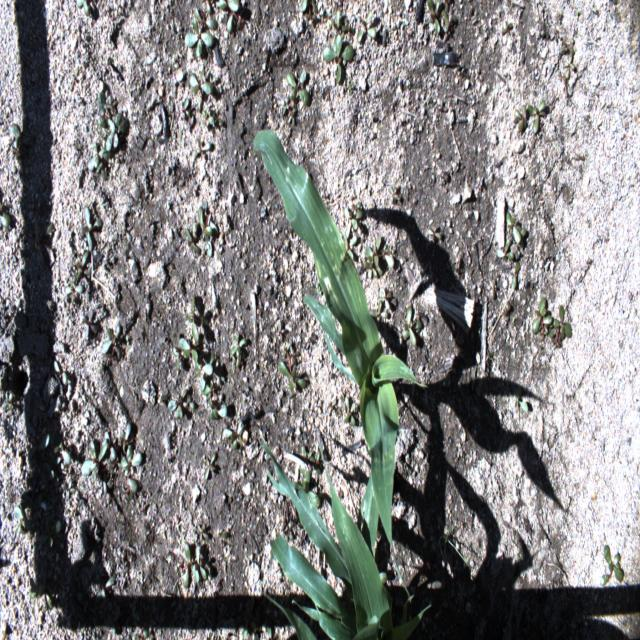crop: (251, 129, 427, 606), (258, 429, 434, 638), (260, 590, 317, 640)
weed: (323, 34, 355, 86), (439, 525, 471, 569), (197, 204, 220, 258), (81, 440, 108, 483), (29, 569, 58, 609), (185, 16, 213, 56), (364, 234, 395, 269), (120, 444, 142, 492), (201, 380, 226, 421), (277, 360, 307, 393), (550, 304, 572, 347), (82, 206, 102, 252), (600, 544, 622, 585), (104, 114, 129, 150), (286, 70, 310, 106), (183, 292, 200, 342), (402, 305, 422, 346), (532, 298, 553, 336), (215, 0, 239, 33), (183, 542, 200, 588), (300, 468, 320, 506), (505, 208, 526, 244), (197, 351, 215, 393), (168, 389, 194, 418), (357, 8, 378, 43), (178, 338, 200, 371), (526, 100, 546, 135), (40, 513, 60, 548), (102, 325, 120, 360), (98, 92, 116, 127), (223, 421, 243, 452), (344, 208, 363, 239), (89, 143, 110, 171), (190, 69, 212, 95), (14, 504, 33, 533), (80, 310, 98, 340), (65, 276, 84, 304), (194, 6, 218, 28), (75, 251, 90, 285), (426, 0, 441, 33), (183, 226, 200, 254), (53, 440, 71, 465), (229, 332, 247, 357), (201, 107, 224, 126), (196, 544, 208, 580), (343, 396, 356, 428), (364, 256, 382, 279), (103, 430, 116, 461), (496, 239, 514, 261), (441, 9, 458, 32), (119, 423, 131, 455), (336, 17, 354, 38), (377, 288, 393, 311), (10, 123, 22, 153), (564, 52, 576, 80), (515, 104, 527, 132), (514, 390, 529, 412), (204, 453, 216, 479), (54, 360, 66, 386), (310, 450, 321, 476), (214, 359, 225, 384), (76, 0, 91, 18), (305, 1, 319, 20), (197, 523, 209, 545), (2, 390, 15, 410), (512, 262, 521, 290), (370, 304, 388, 318), (61, 482, 76, 498), (326, 8, 337, 29), (0, 210, 11, 230), (302, 444, 313, 462), (181, 98, 190, 120), (287, 106, 297, 125), (282, 96, 290, 115), (298, 0, 308, 12), (501, 24, 513, 34), (220, 530, 229, 542), (266, 626, 272, 639), (242, 629, 247, 639)
